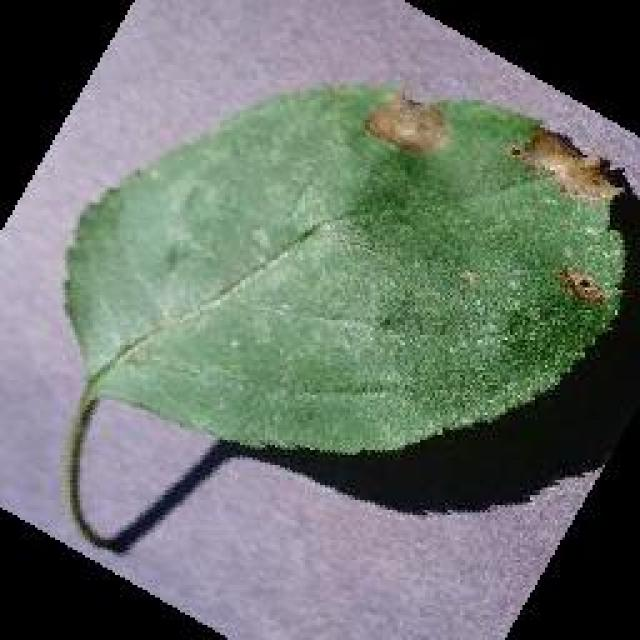apple healthy: (58, 78, 638, 550)
